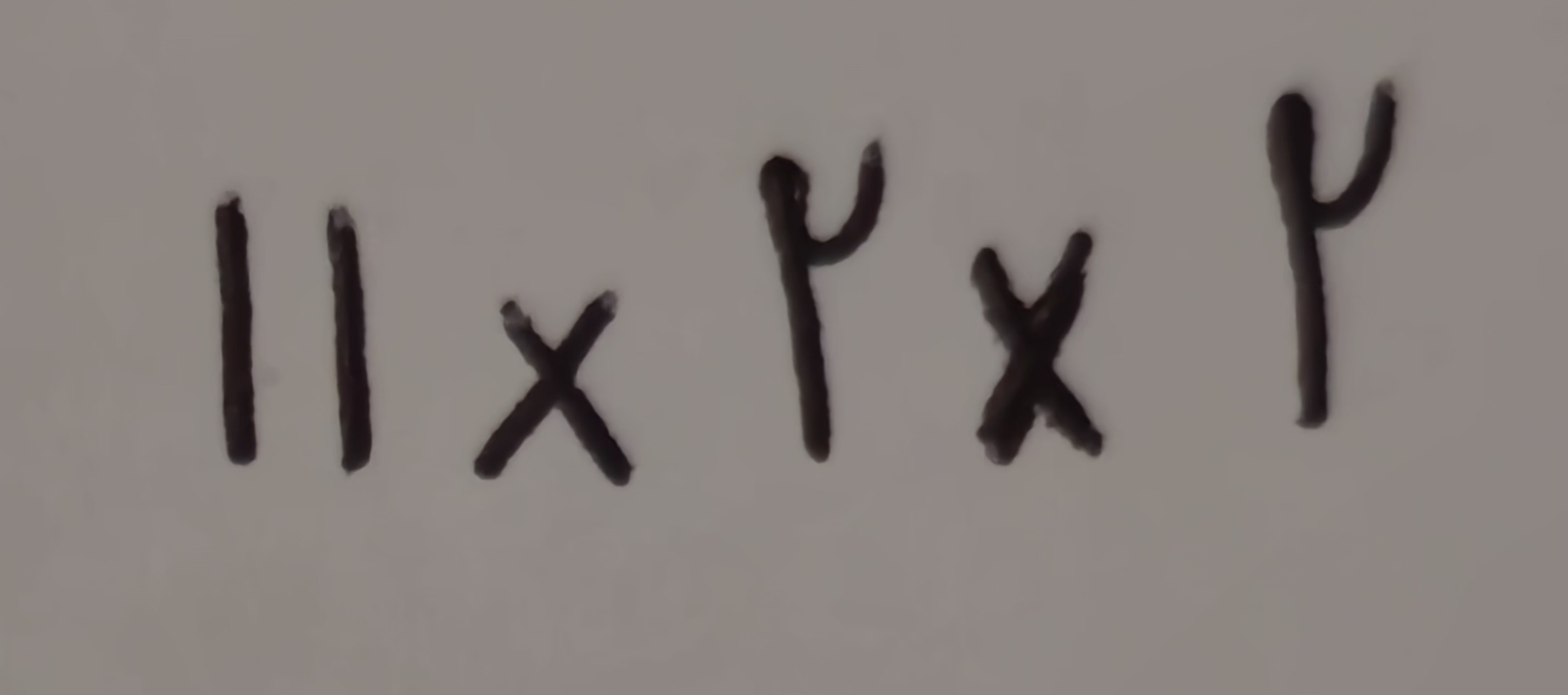character: (1266, 79, 1395, 429), (757, 139, 886, 462), (970, 229, 1104, 466), (472, 290, 633, 487), (213, 193, 260, 467), (327, 204, 374, 476)
